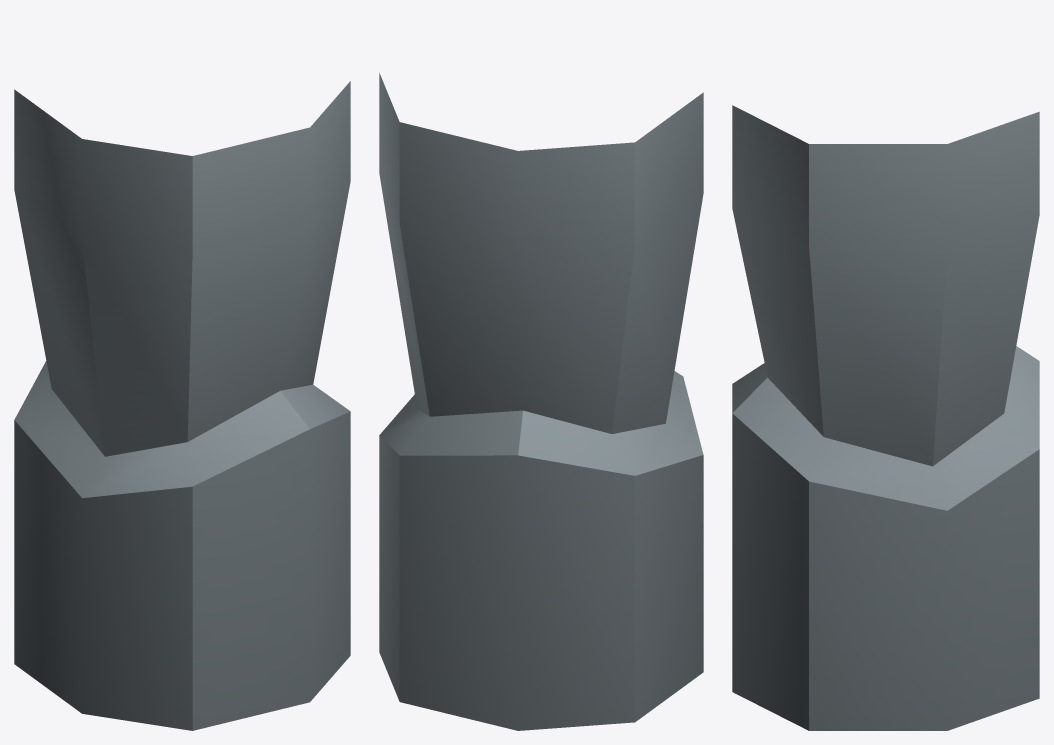
File: Hill_Cliff_Tall_E_Color1.gltf
The picture shows the model from 3 angles, left to right: view 1: azimuth 30°, elevation 25°; view 2: azimuth 150°, elevation 25°; view 3: azimuth 270°, elevation 25°; orthographic projection. The views are drawn at different scales.
Parts seen in each view (by area): view 1: Hill_Cliff_Tall_E_Color1; view 2: Hill_Cliff_Tall_E_Color1; view 3: Hill_Cliff_Tall_E_Color1.
Boxes of the visible parts, x1,y1,x2,y2 form: Hill_Cliff_Tall_E_Color1: (14,81,350,730); Hill_Cliff_Tall_E_Color1: (379,73,703,730); Hill_Cliff_Tall_E_Color1: (732,105,1039,730).
Bounding box in the file's own units: 1.9 × 4 × 1.9.
Materials: 1 (1 with a texture image).
